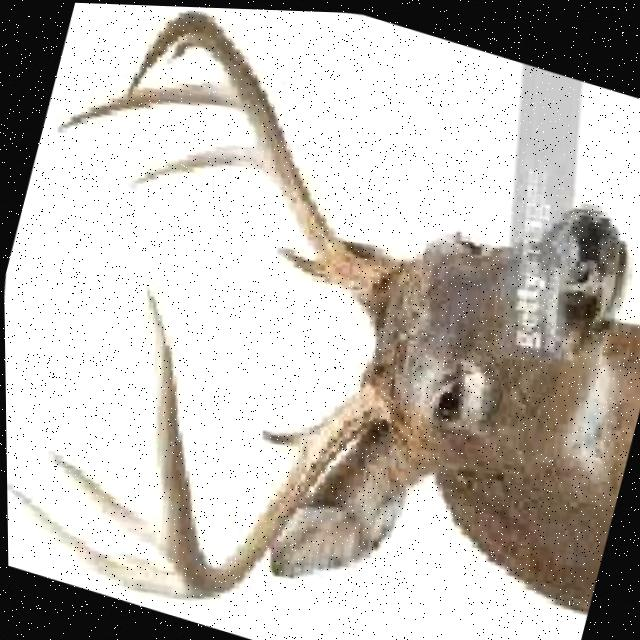E1: (167, 36, 198, 62)
L-F: (126, 5, 409, 333)
L-G1: (270, 242, 336, 283)
L-G2: (122, 141, 268, 192)
L-G3: (54, 75, 244, 135)
R-F: (141, 283, 388, 599)
R-G1: (259, 423, 313, 446)
R-G2: (6, 482, 184, 598)
R-G3: (42, 443, 166, 557)
